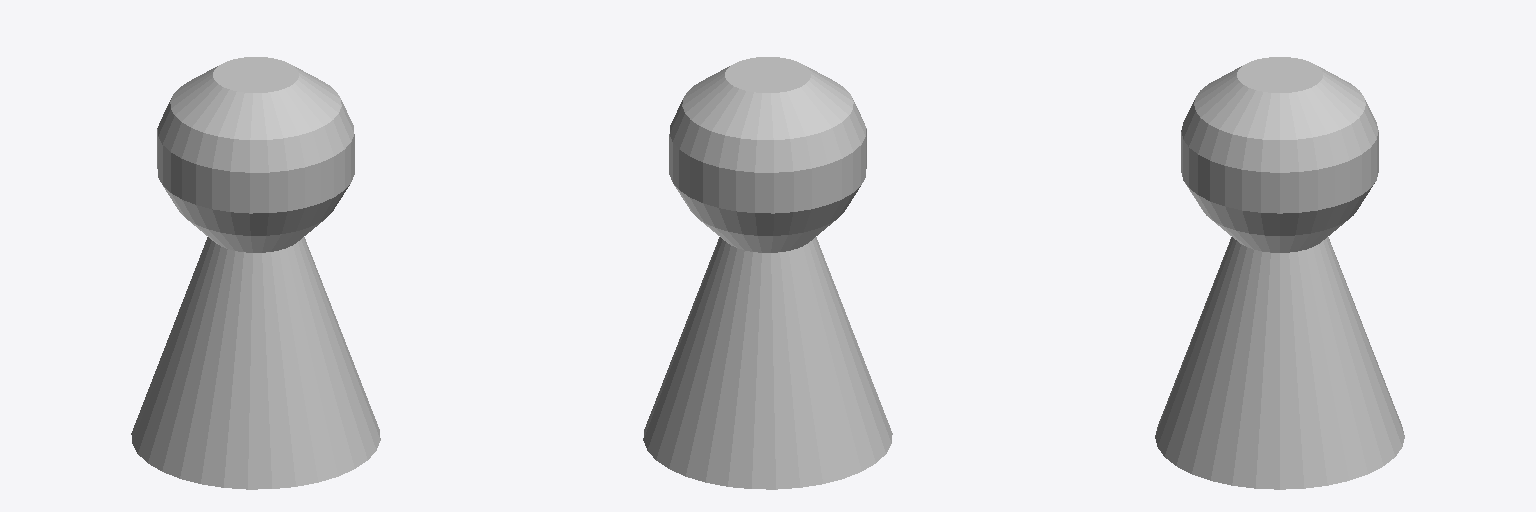
Rendered from light-object.obj.
3 renders of one model, left to right at view 1: azimuth 30°, elevation 25°; view 2: azimuth 150°, elevation 25°; view 3: azimuth 270°, elevation 25°, orthographic.
Parts seen in each view (by area): view 1: Cone; view 2: Cone; view 3: Cone.
Boxes of the visible parts, box(x1,y1,x2,y2) form: Cone: box(131, 57, 380, 489); Cone: box(643, 57, 892, 489); Cone: box(1155, 57, 1404, 489).
Size of the model in its own units: 1.1 by 1.76 by 1.1.